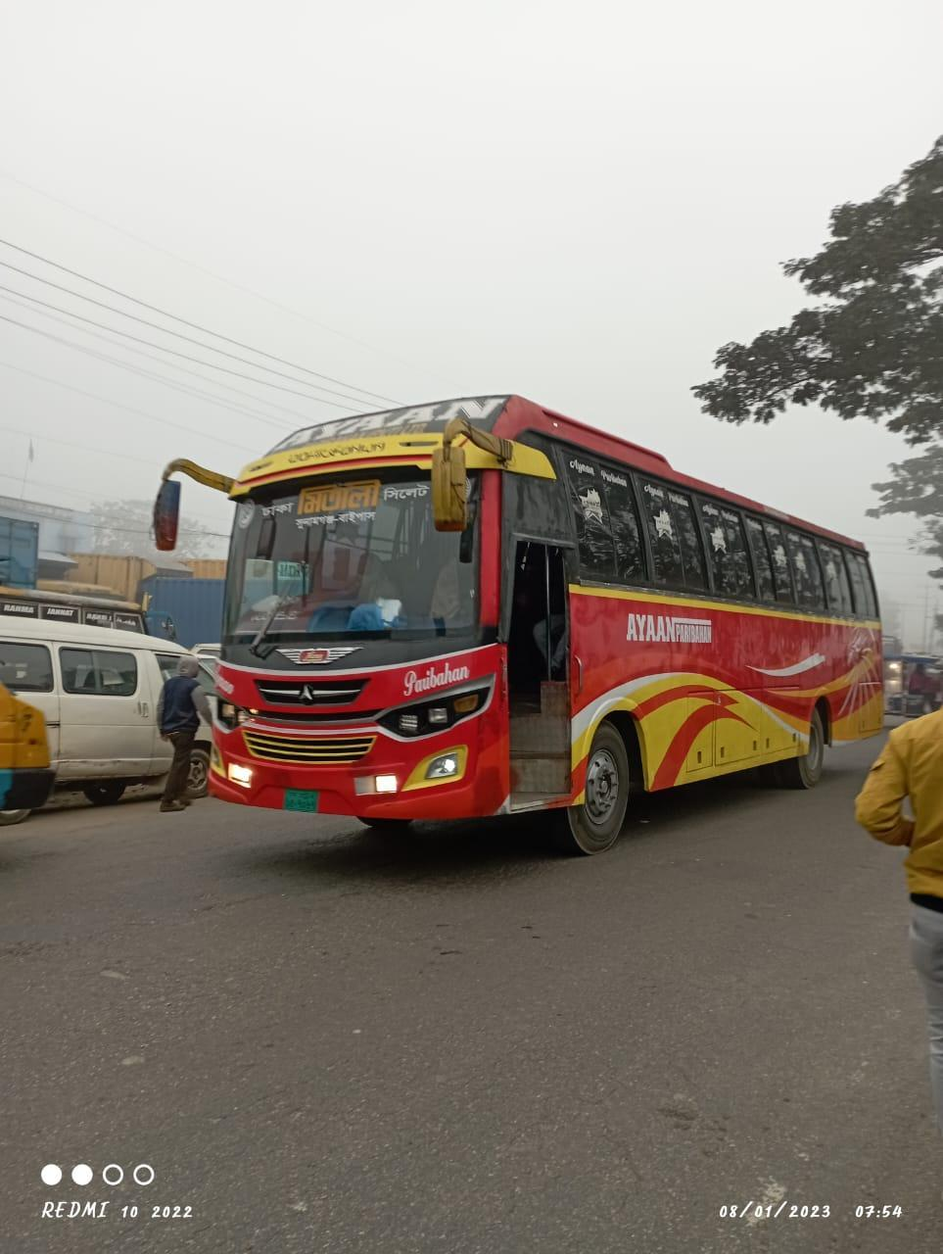Bus: (150, 392, 886, 819)
Car: (6, 601, 239, 804)
